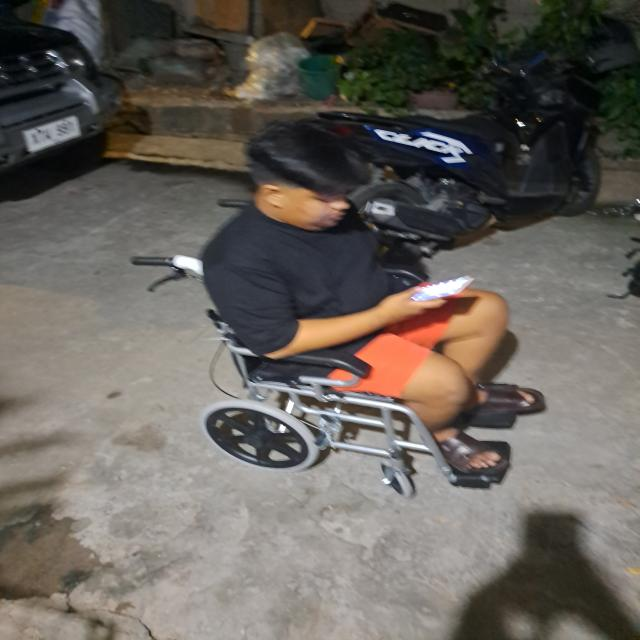wheelchairs: (131, 234, 555, 506)
